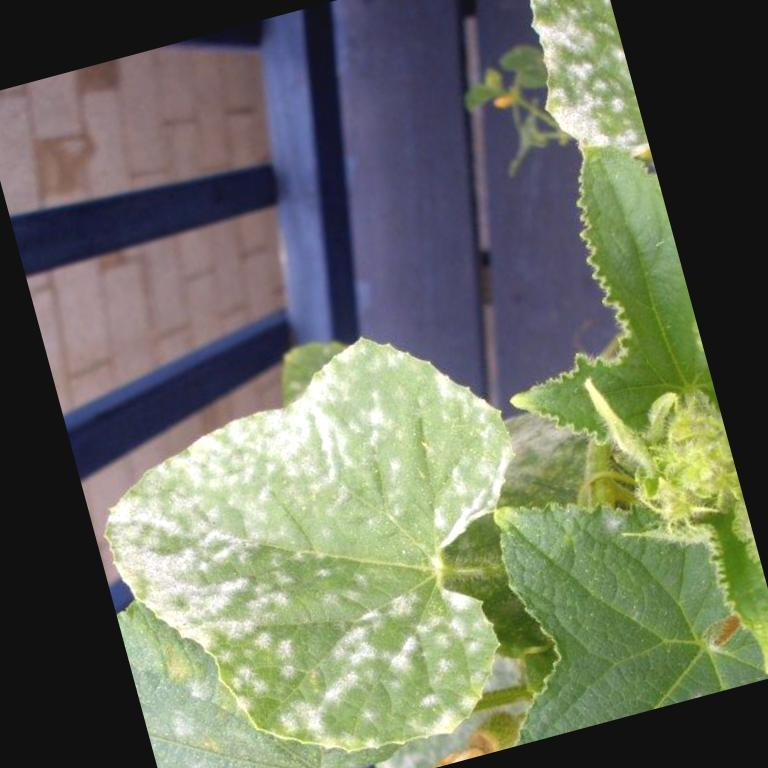powdery-mildew: (116, 460, 258, 652), (290, 586, 466, 732)
